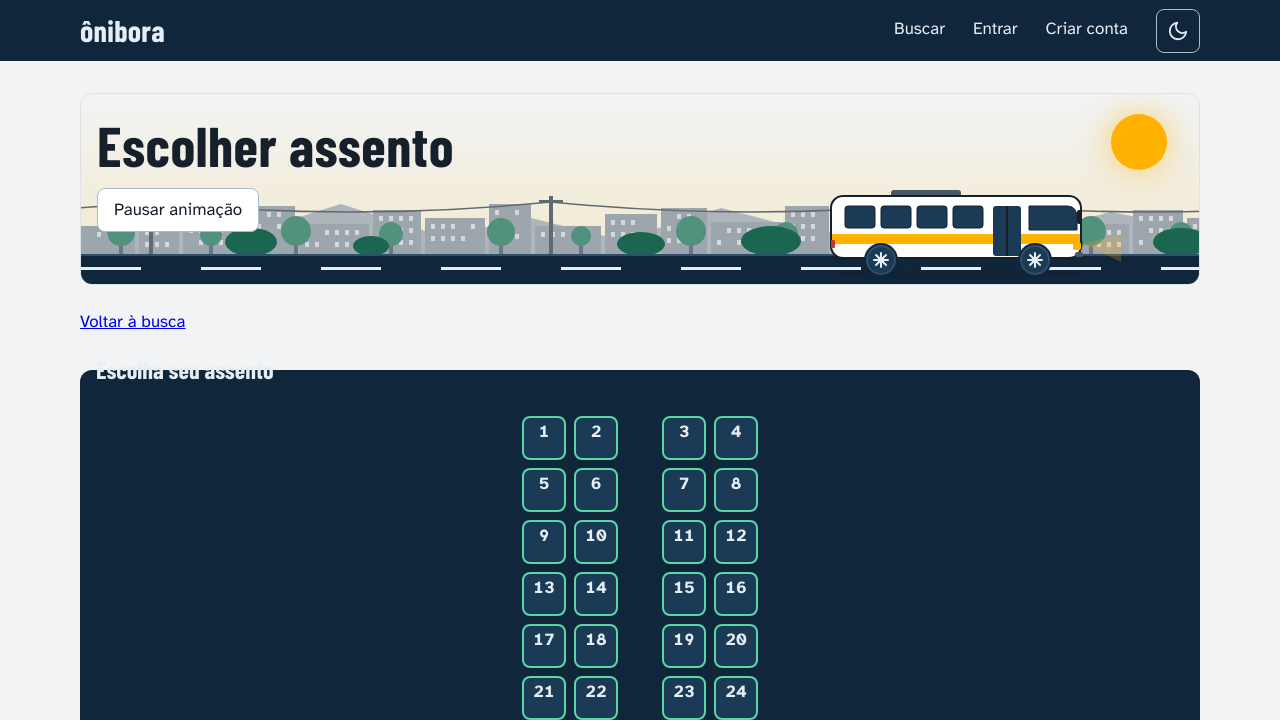
Test: TripPage: reservar o assento › sem login, o botão pede para entrar e leva ao Entrar sem chamar a reserva
Click the radio button named "Assento 7, livre" at (684, 490), box [662,468,706,512]
(page scrolled)
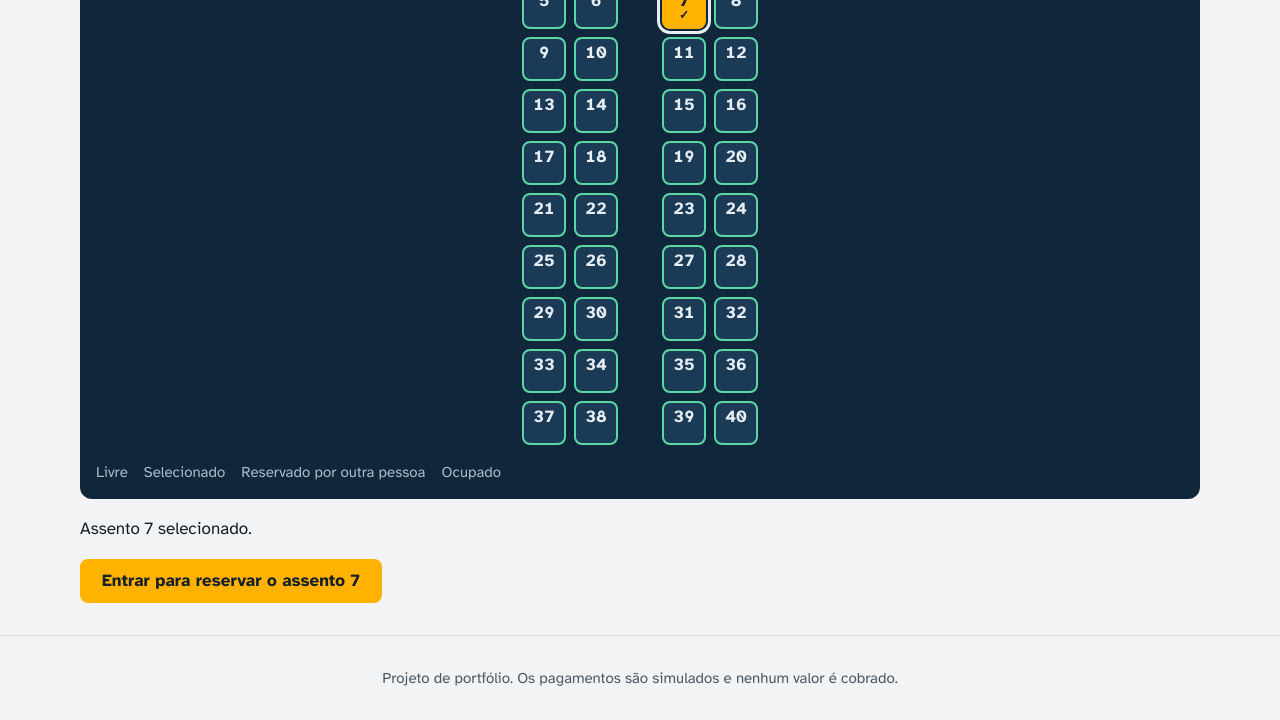
Click the button "Entrar para reservar o assento 7" at (231, 580), box [80,558,382,602]
(page scrolled)
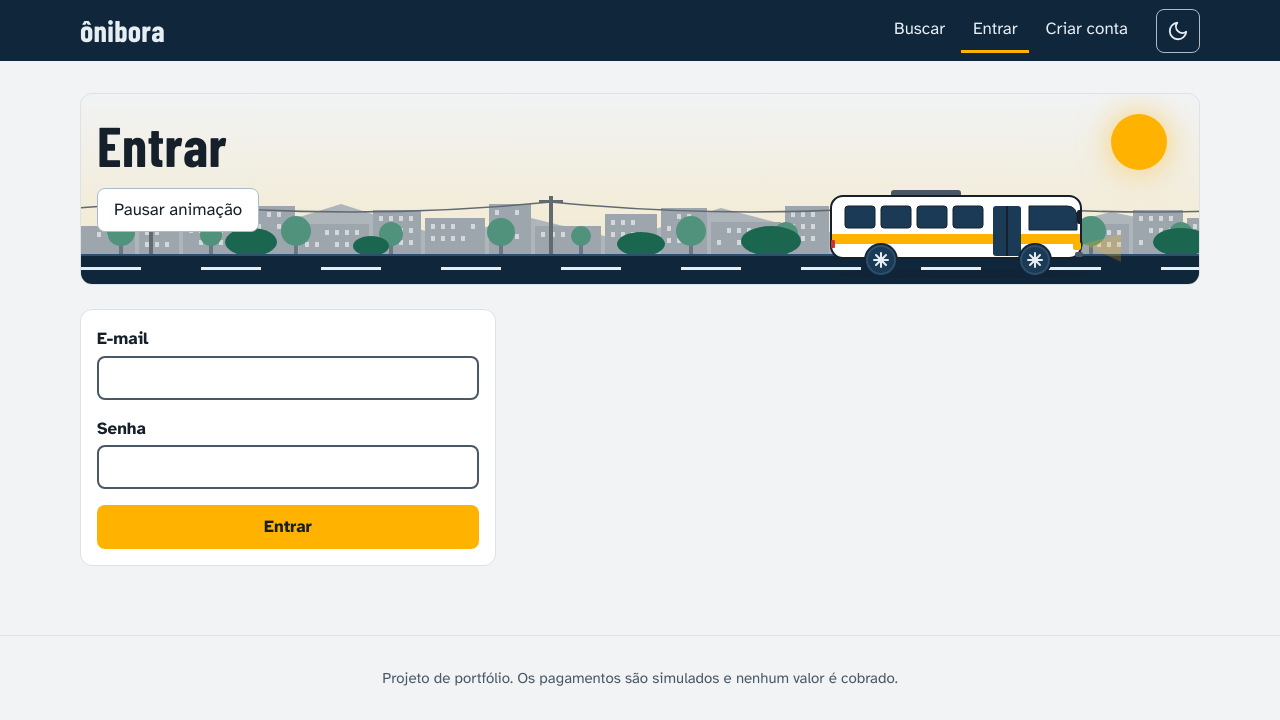
Expected: the heading "Entrar" is shown, [97,111,227,178]
